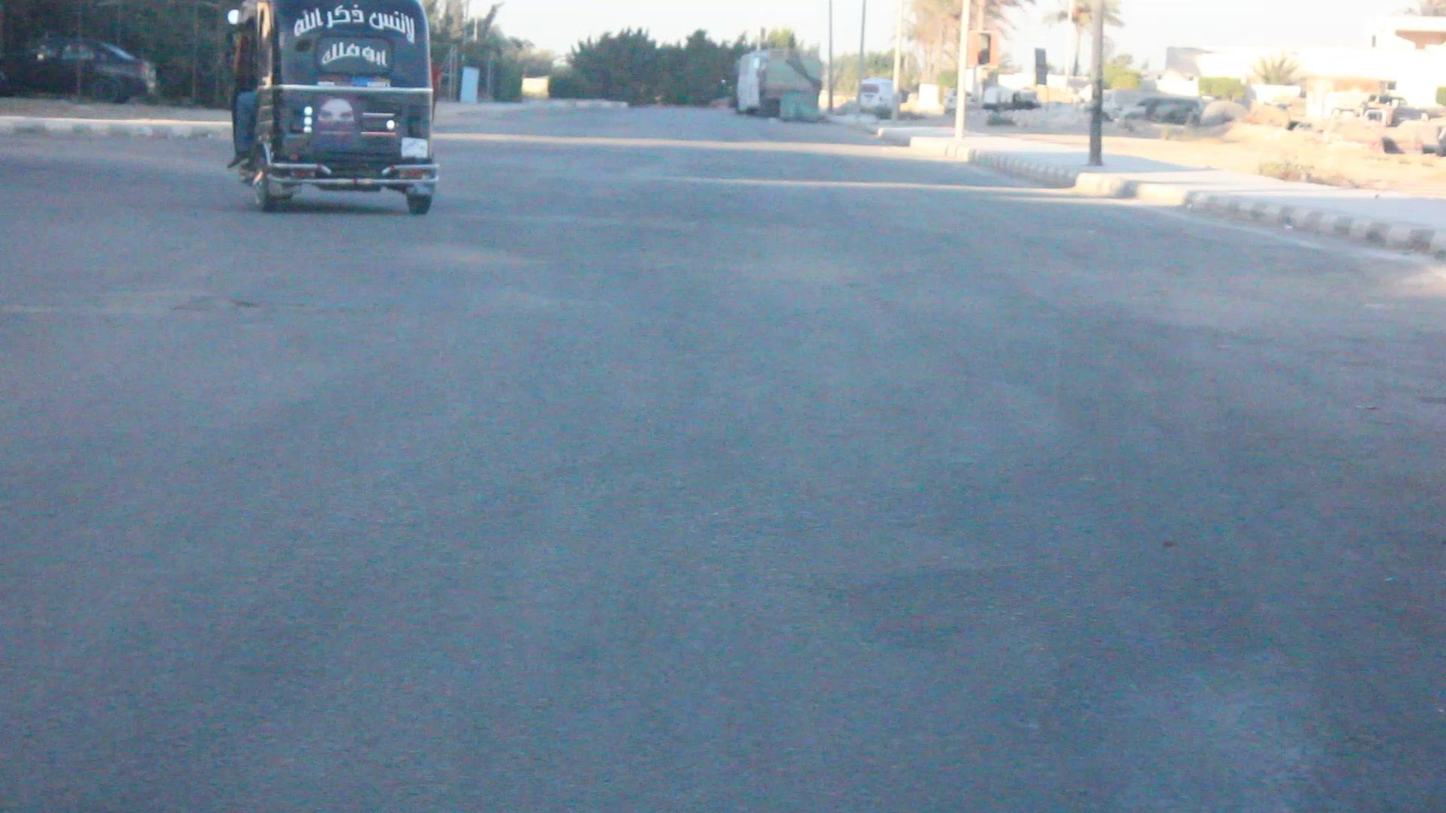Bump: (2, 199, 1326, 260)
